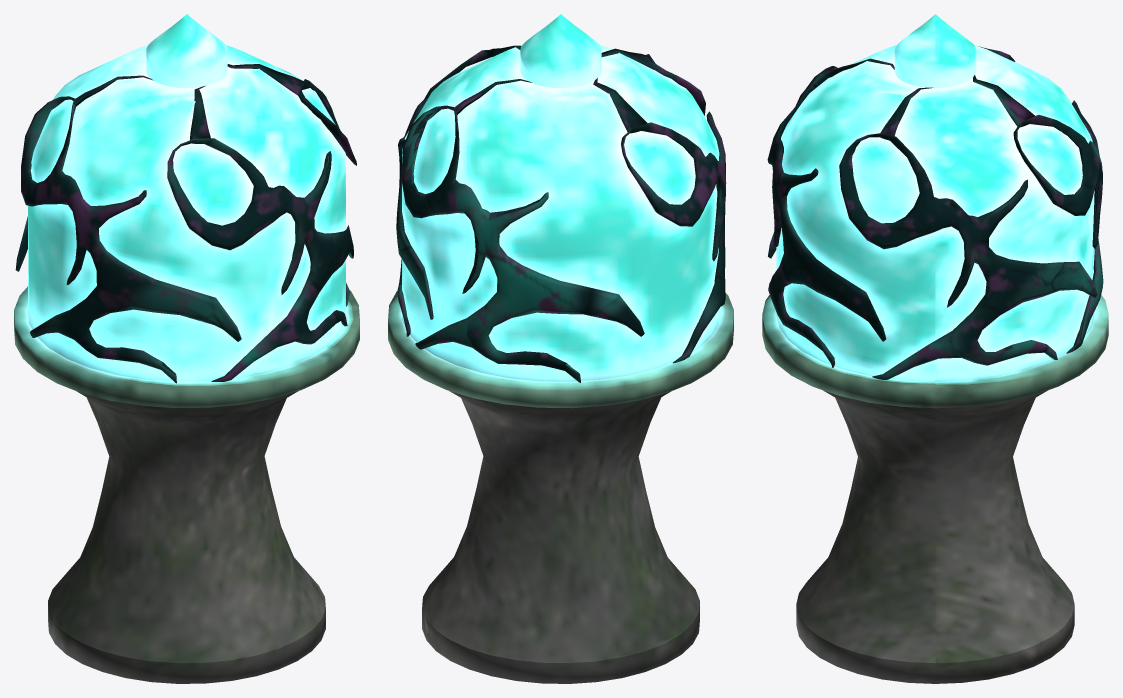
File: EnergyContainer.fbx
3 renders of one model, left to right at view 1: azimuth 30°, elevation 25°; view 2: azimuth 150°, elevation 25°; view 3: azimuth 270°, elevation 25°, orthographic.
Parts seen in each view (by area): view 1: Shape, Decorations; view 2: Shape, Decorations; view 3: Shape, Decorations.
Boxes of the visible parts, x1=… form: Shape: x1=14, y1=14, x2=359, y2=683; Decorations: x1=15, y1=64, x2=356, y2=383; Shape: x1=388, y1=14, x2=733, y2=683; Decorations: x1=396, y1=45, x2=726, y2=382; Shape: x1=762, y1=14, x2=1108, y2=683; Decorations: x1=767, y1=46, x2=1103, y2=379.
Bounding box in the file's own units: 678 × 1318 × 678.
